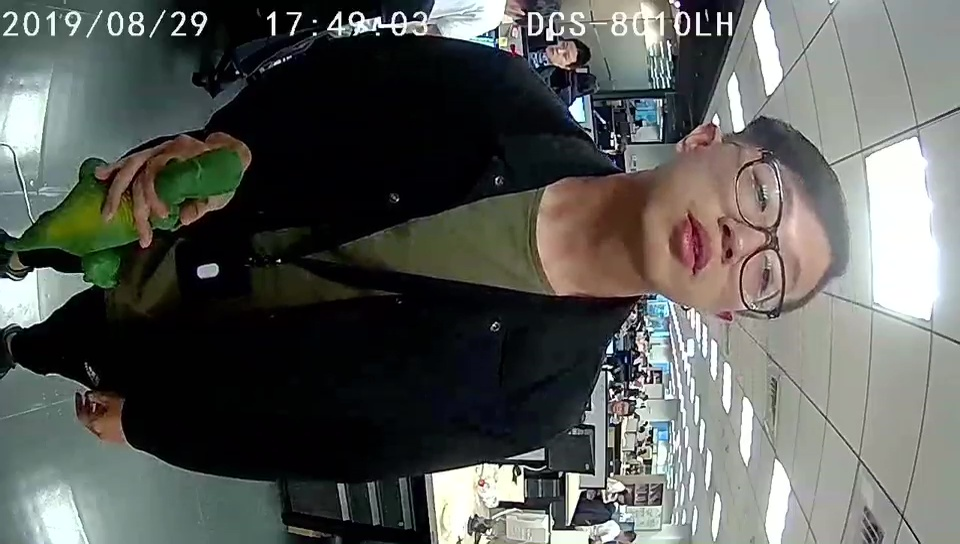rex: (50, 147, 243, 288)
